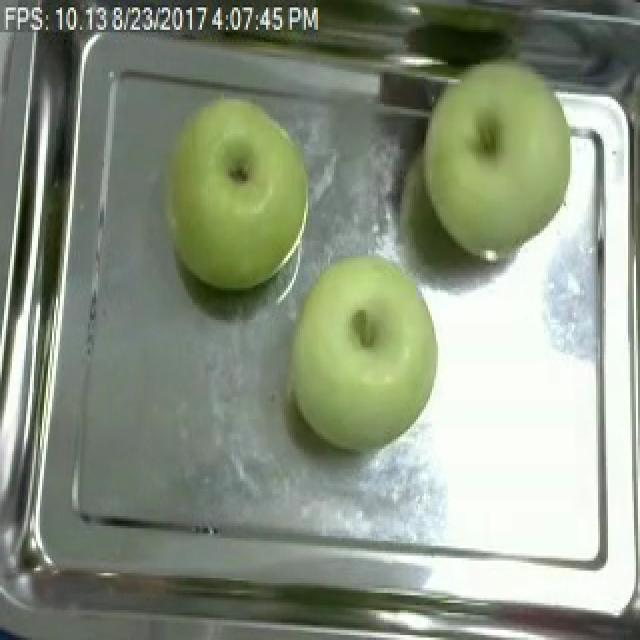apple: (423, 63, 570, 259), (290, 257, 437, 450), (168, 97, 308, 290)
